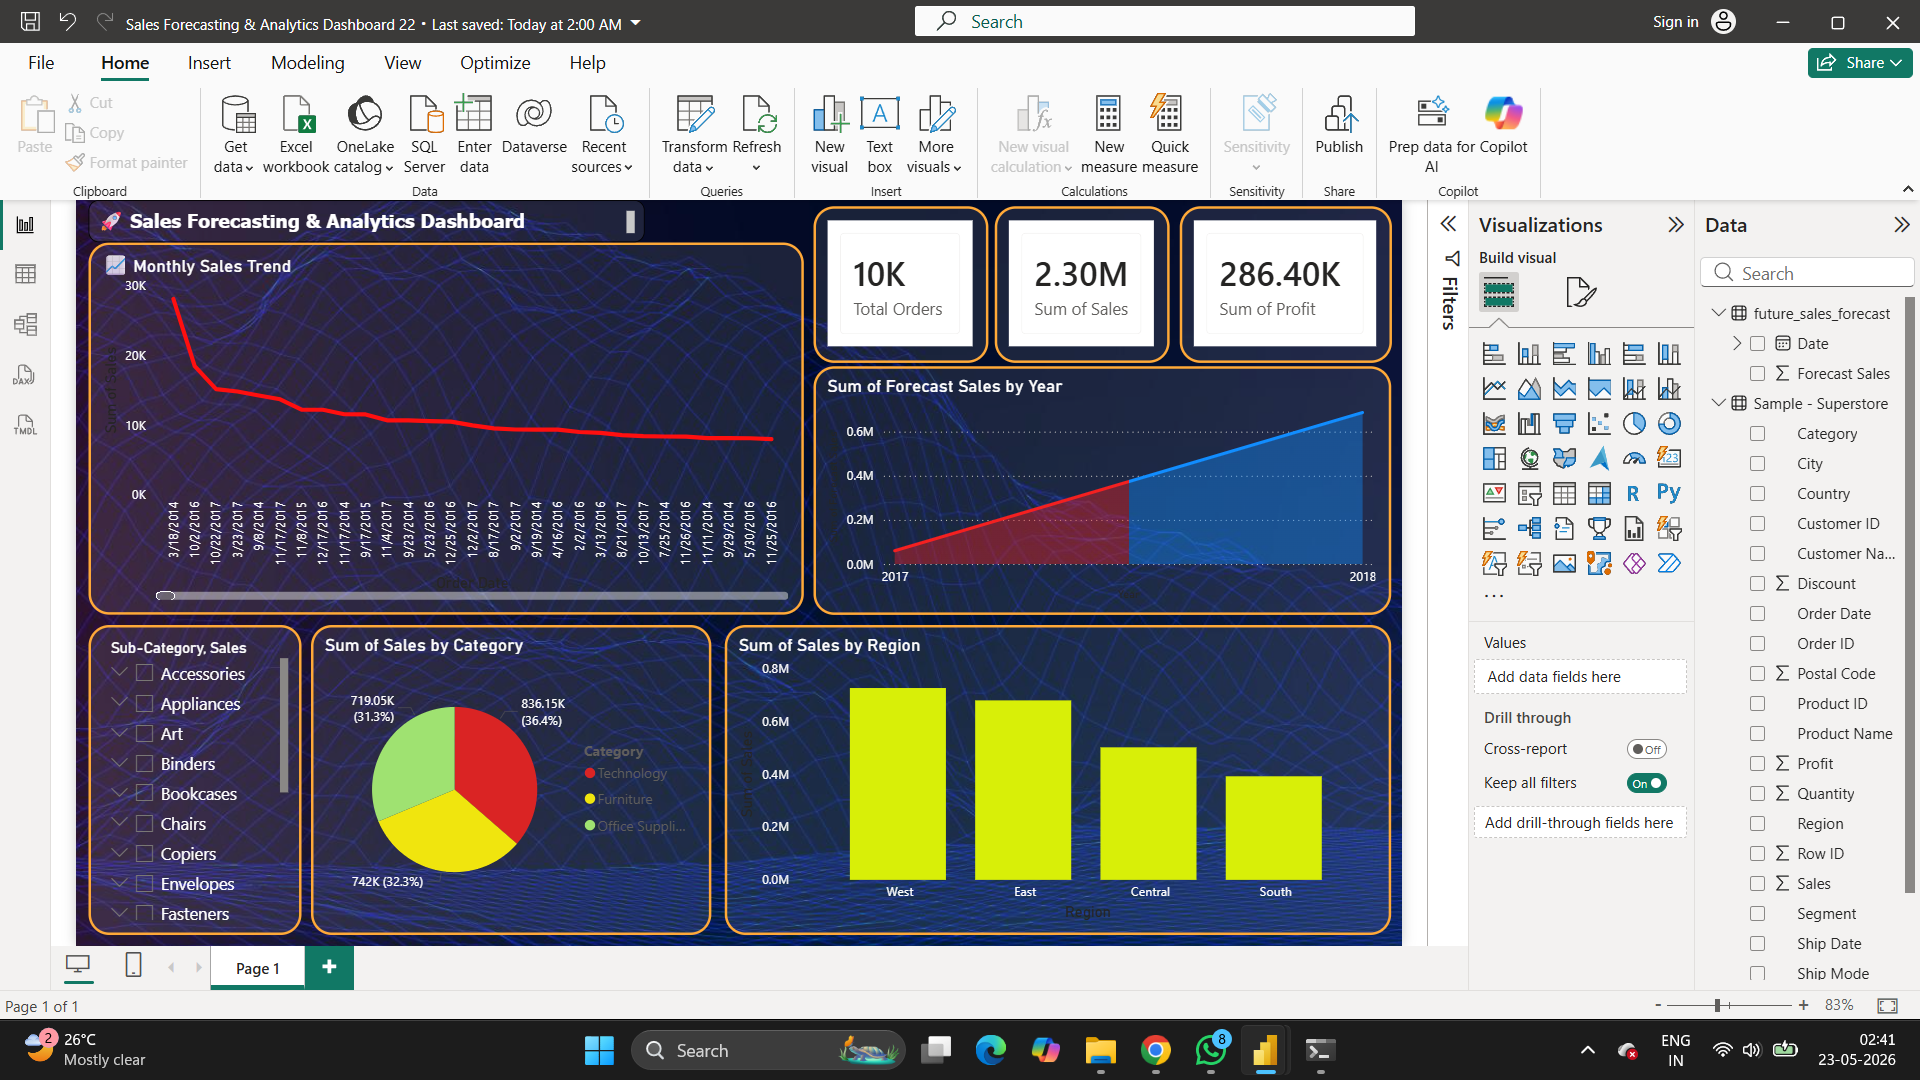

The page's visual inventory and layout, read from the dashboard file:
{"tool":"powerbi","page":{"name":"Page 1","canvas":[1280,720],"ordinal":0},"visuals":[{"type":"cardVisual","fields":{"Data":["Sum(Sample - Superstore.Profit)"]},"box":[1064.8,5.5,204.5,150.9],"z":0},{"type":"cardVisual","fields":{"Data":["Sum(Sample - Superstore.Sales)"]},"box":[886.5,5.5,168.8,150.9],"z":1000},{"type":"cardVisual","fields":{"Data":["Sample - Superstore.Total Orders"]},"box":[712.2,5.5,168.8,150.9],"z":2000},{"type":"lineChart","title":"📈 Monthly Sales Trend","fields":{"Category":["Sample - Superstore.Order Date"],"Y":["Sum(Sample - Superstore.Sales)"]},"box":[12.1,41,690.1,359.5],"z":3000},{"type":"clusteredColumnChart","fields":{"Category":["Sample - Superstore.Region"],"Y":["Sum(Sample - Superstore.Sales)"]},"box":[626.1,410.2,643,299.2],"z":4000},{"type":"pieChart","fields":{"Category":["Sample - Superstore.Category"],"Y":["Sum(Sample - Superstore.Sales)"]},"box":[226.8,410.2,386.1,299.2],"z":5000},{"type":"slicer","fields":{"Values":["Sample - Superstore.Sub-Category","Sample - Superstore.Sales"]},"box":[12.3,410.3,205.8,299.1],"z":6000},{"type":"areaChart","fields":{"Category":["future_sales_forecast.Date.Variation.Date Hierarchy.Year","future_sales_forecast.Date.Variation.Date Hierarchy.Month","future_sales_forecast.Date.Variation.Date Hierarchy.Day"],"Y":["Sum(future_sales_forecast.Forecast Sales)"]},"box":[711.8,160.5,557.4,240.1],"z":7000},{"type":"textbox","box":[12.3,0,536.5,41.2],"z":8000}]}

Visuals, with their boxes on the page's 1280x720 design canvas (x1, y1, x2, y2). These are canvas units, not pixel positions in the 1920x1080 screenshot, which may show the page scaled, cropped or inside an application window:
cardVisual - Sum(Sample - Superstore.Profit): <box>1065,6,1269,156</box>
cardVisual - Sum(Sample - Superstore.Sales): <box>886,6,1055,156</box>
cardVisual - Sample - Superstore.Total Orders: <box>712,6,881,156</box>
"📈 Monthly Sales Trend" lineChart: <box>12,41,702,400</box>
clusteredColumnChart - Sample - Superstore.Region x Sum(Sample - Superstore.Sales): <box>626,410,1269,709</box>
pieChart - Sample - Superstore.Category x Sum(Sample - Superstore.Sales): <box>227,410,613,709</box>
slicer - Sample - Superstore.Sub-Category x Sample - Superstore.Sales: <box>12,410,218,709</box>
areaChart - future_sales_forecast.Date.Variation.Date Hierarchy.Year x future_sales_forecast.Date.Variation.Date Hierarchy.Month: <box>712,160,1269,401</box>
textbox: <box>12,0,549,41</box>
